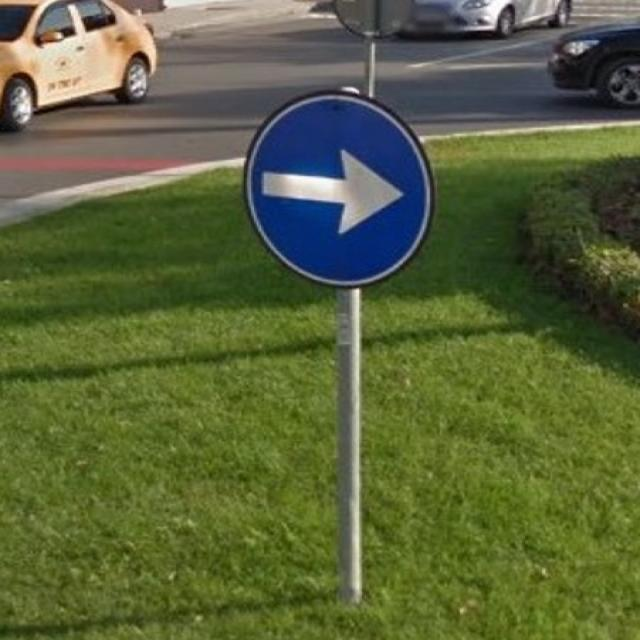Turn Right: (239, 84, 434, 289)
